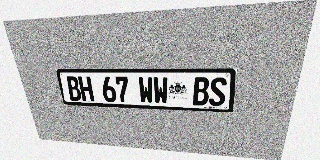6: (100, 77, 117, 102)
7: (114, 77, 130, 103)
B: (193, 77, 210, 106), (65, 76, 82, 101)
H: (78, 76, 94, 101)
S: (209, 77, 227, 106)
W: (138, 77, 154, 104), (153, 77, 168, 104)
